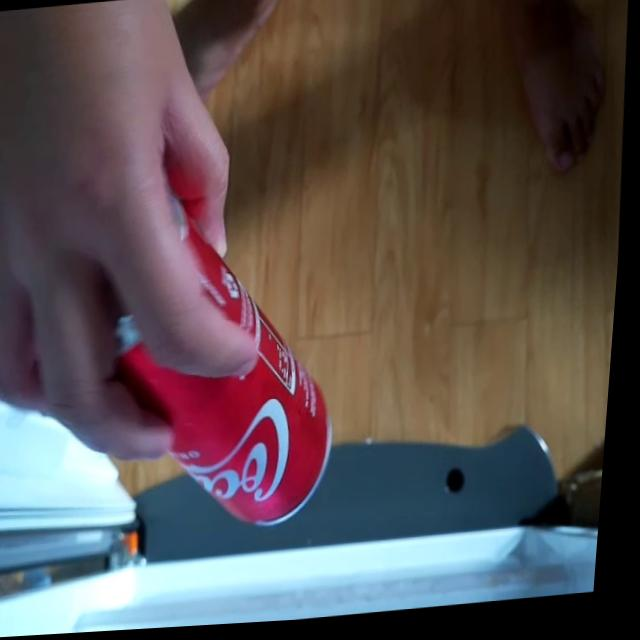coke: (89, 174, 355, 552)
